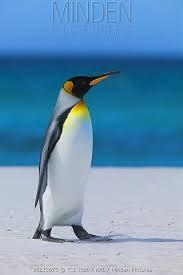king: (33, 62, 126, 250)
